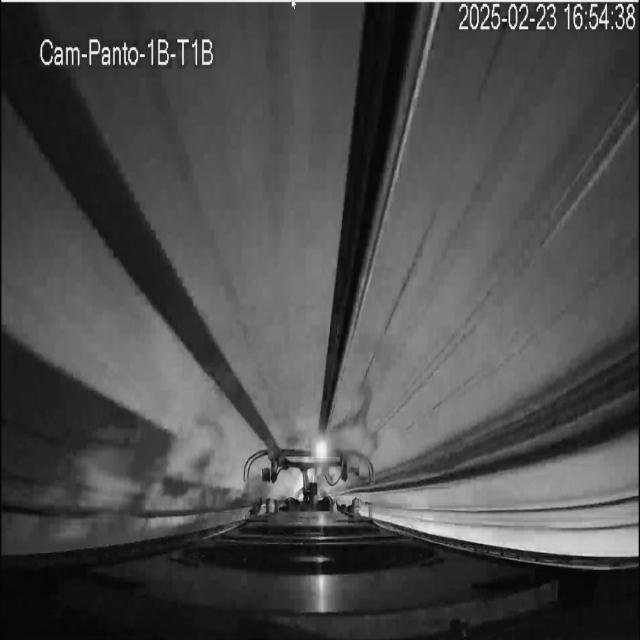Camera Stamp: (38, 33, 216, 68)
Date Stamp: (458, 3, 638, 33)
Sparks: (311, 435, 329, 464)
